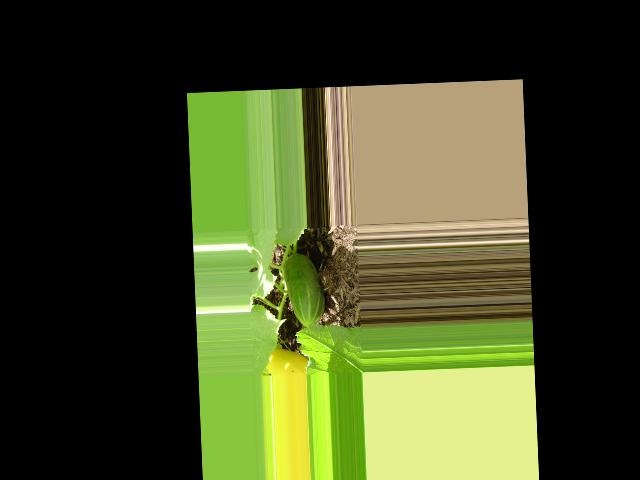cucumber: (283, 251, 326, 327)
